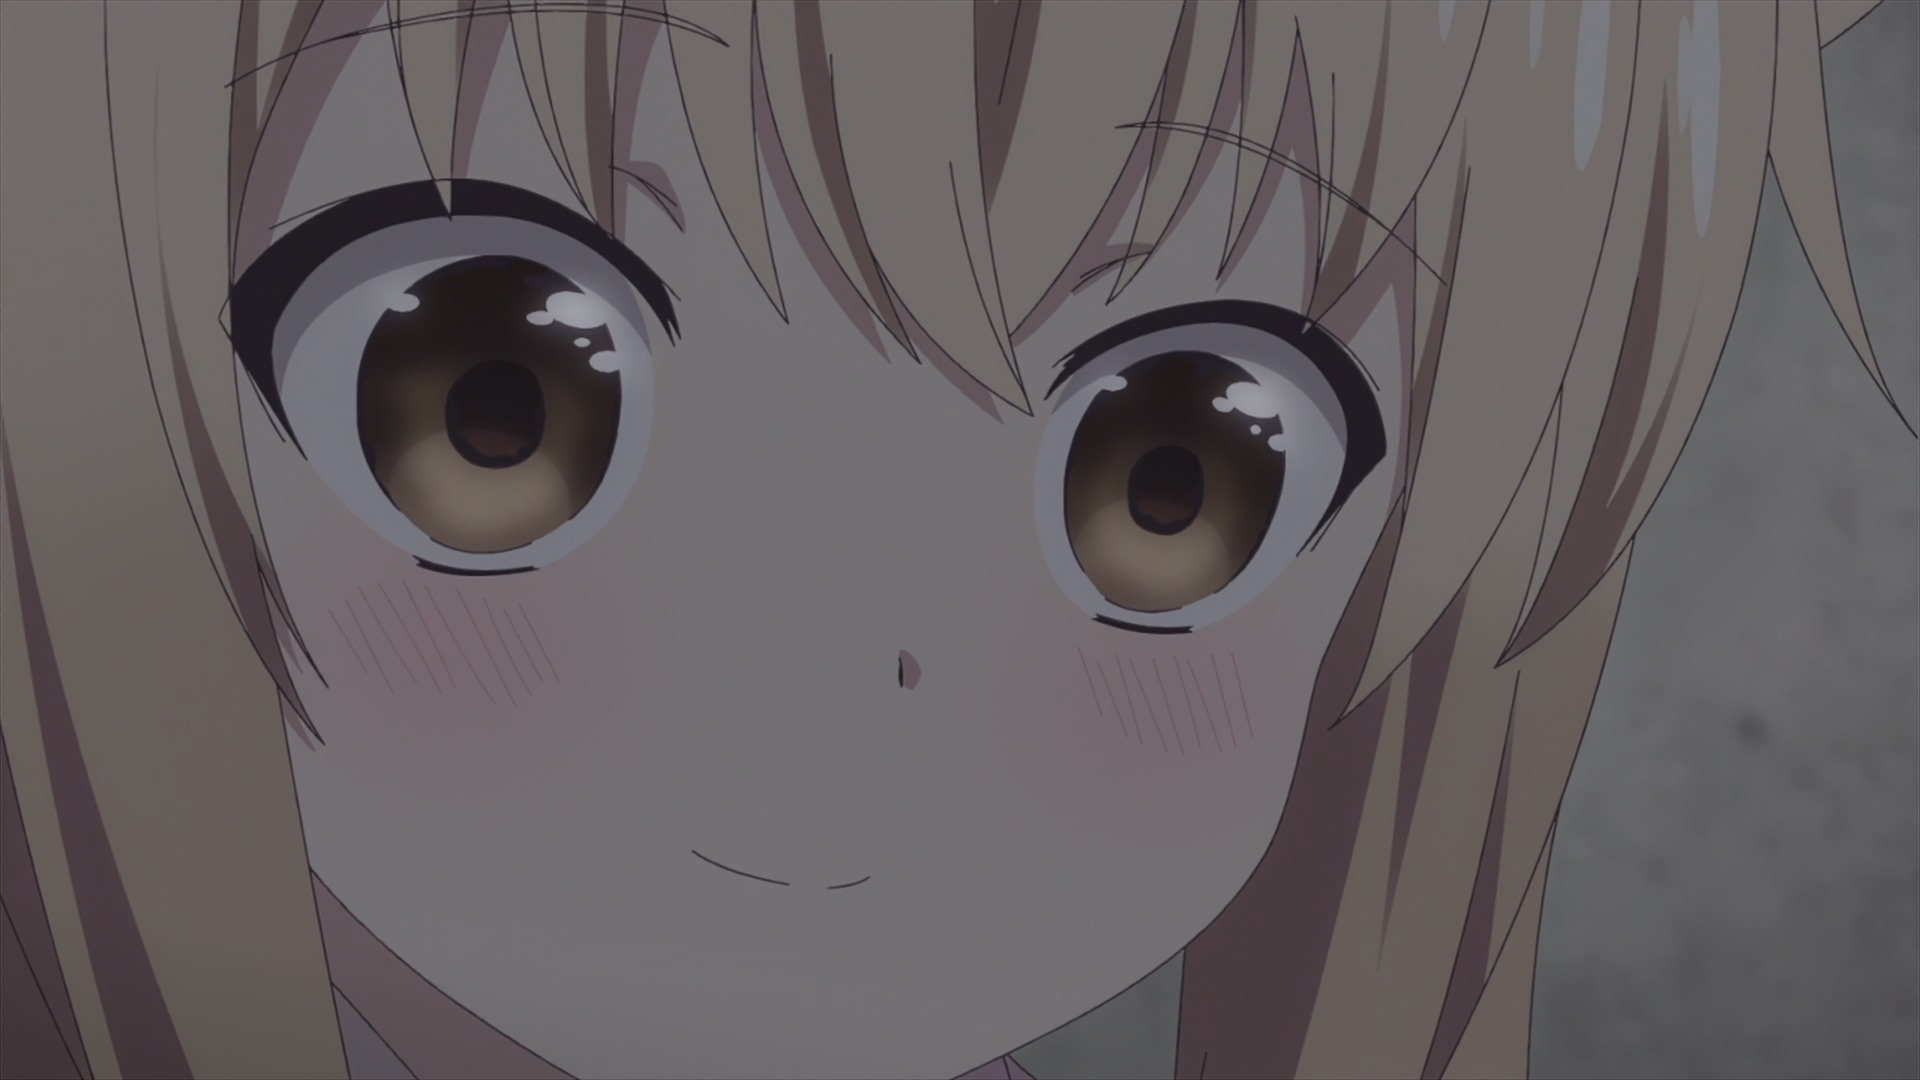柚: (1, 1, 1920, 1080)
